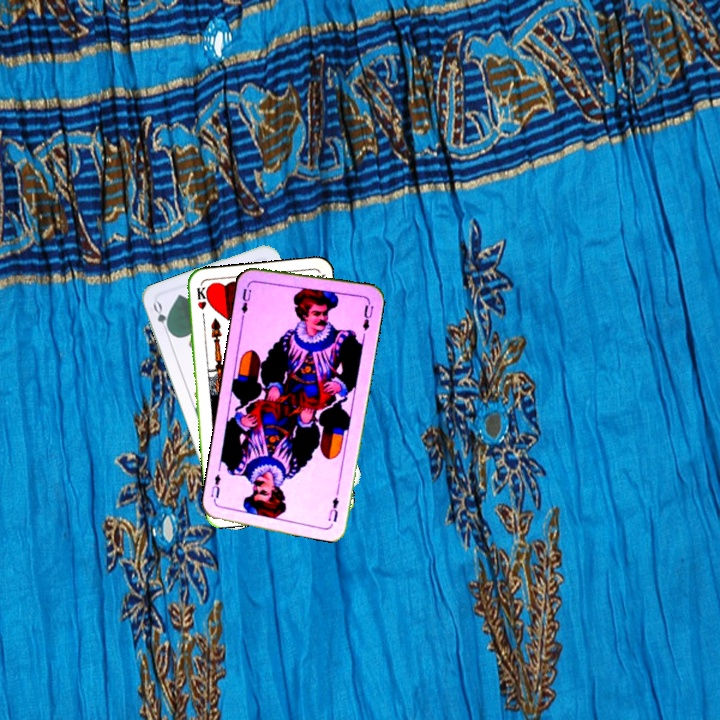EU: (237, 280, 254, 320), (325, 493, 342, 524)
GO: (149, 298, 174, 338)
HK: (193, 283, 209, 323)
